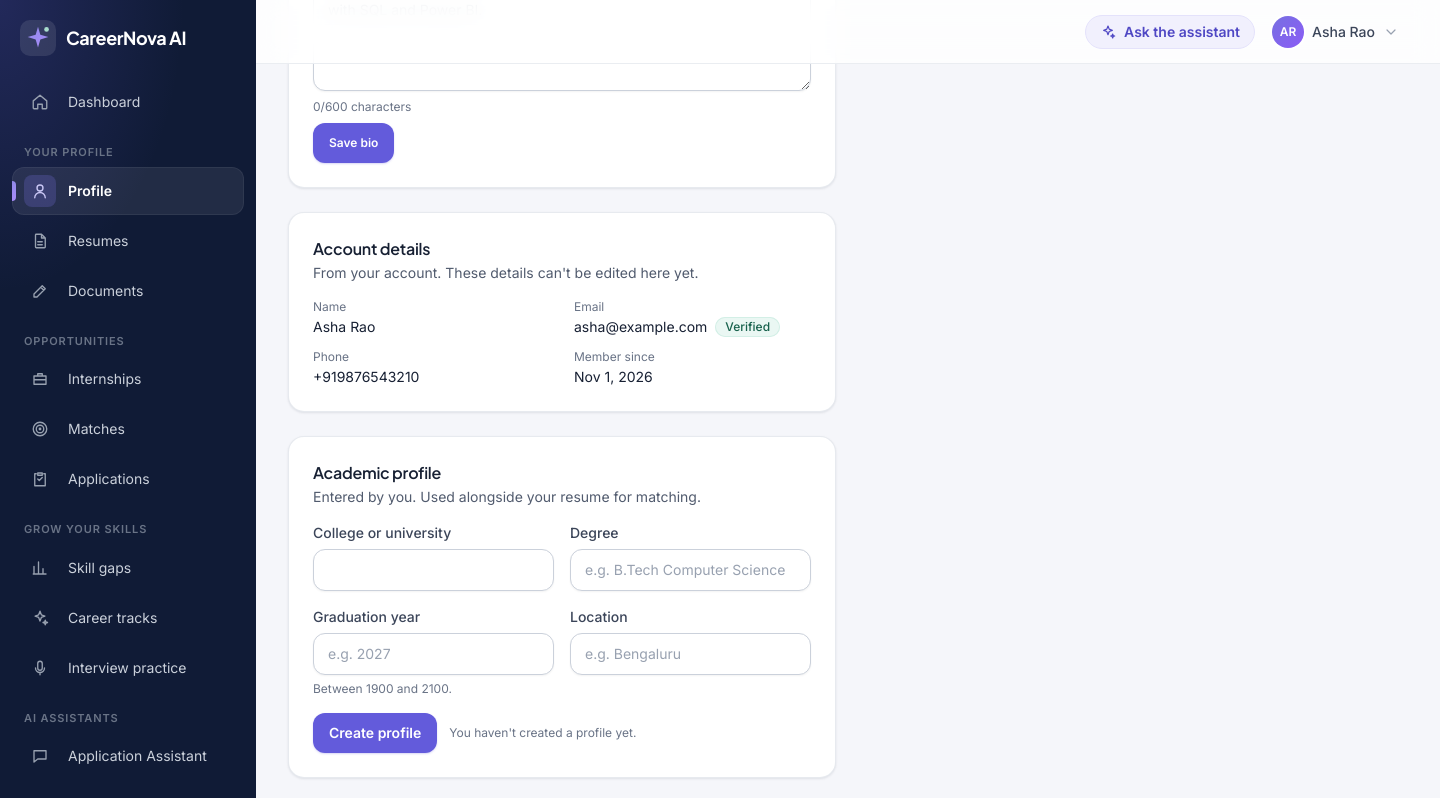
it: Profile: new student › creates a profile with cleaned values
(page scrolled)
expect the text "You haven't created a profile yet." is shown: met, box left=449, top=725, right=636, bottom=741
Type "  Example Institute of Technology " into the field labelled "College or university" at (434, 570), box left=313, top=549, right=554, bottom=591
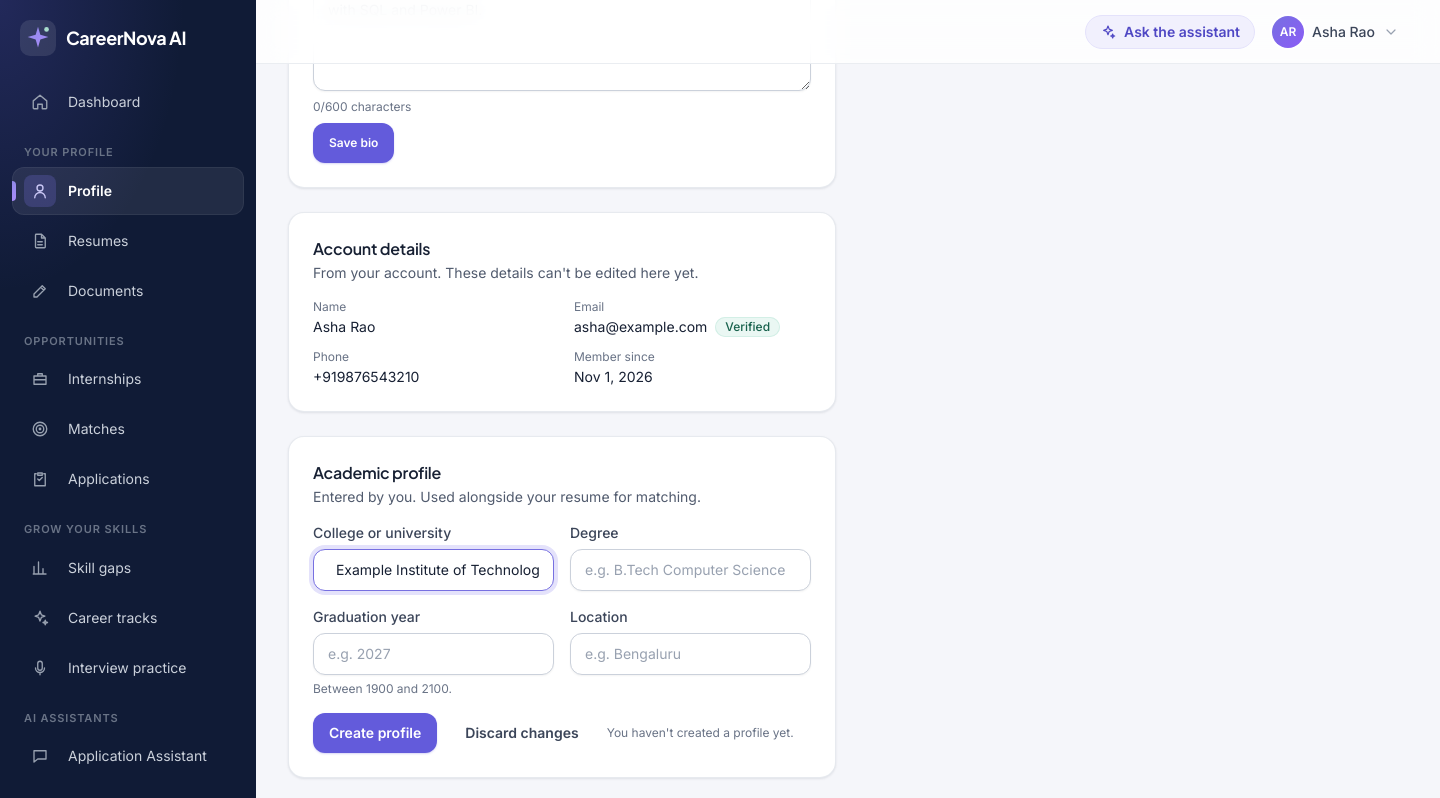
Type "2027" into the field labelled "Graduation year" at (434, 654), box left=313, top=633, right=554, bottom=675
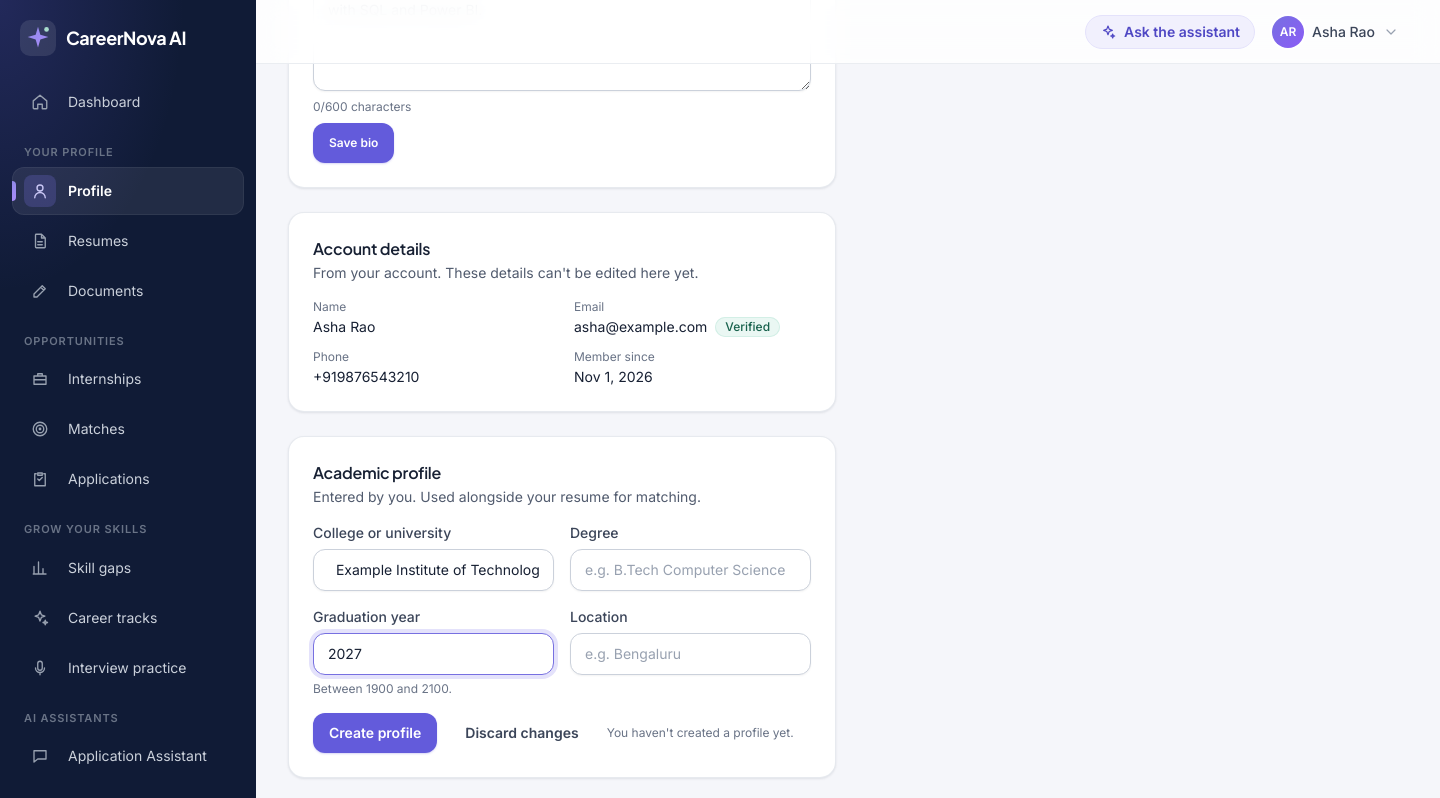
Click the button "Create profile" at (375, 733), box left=313, top=713, right=437, bottom=753
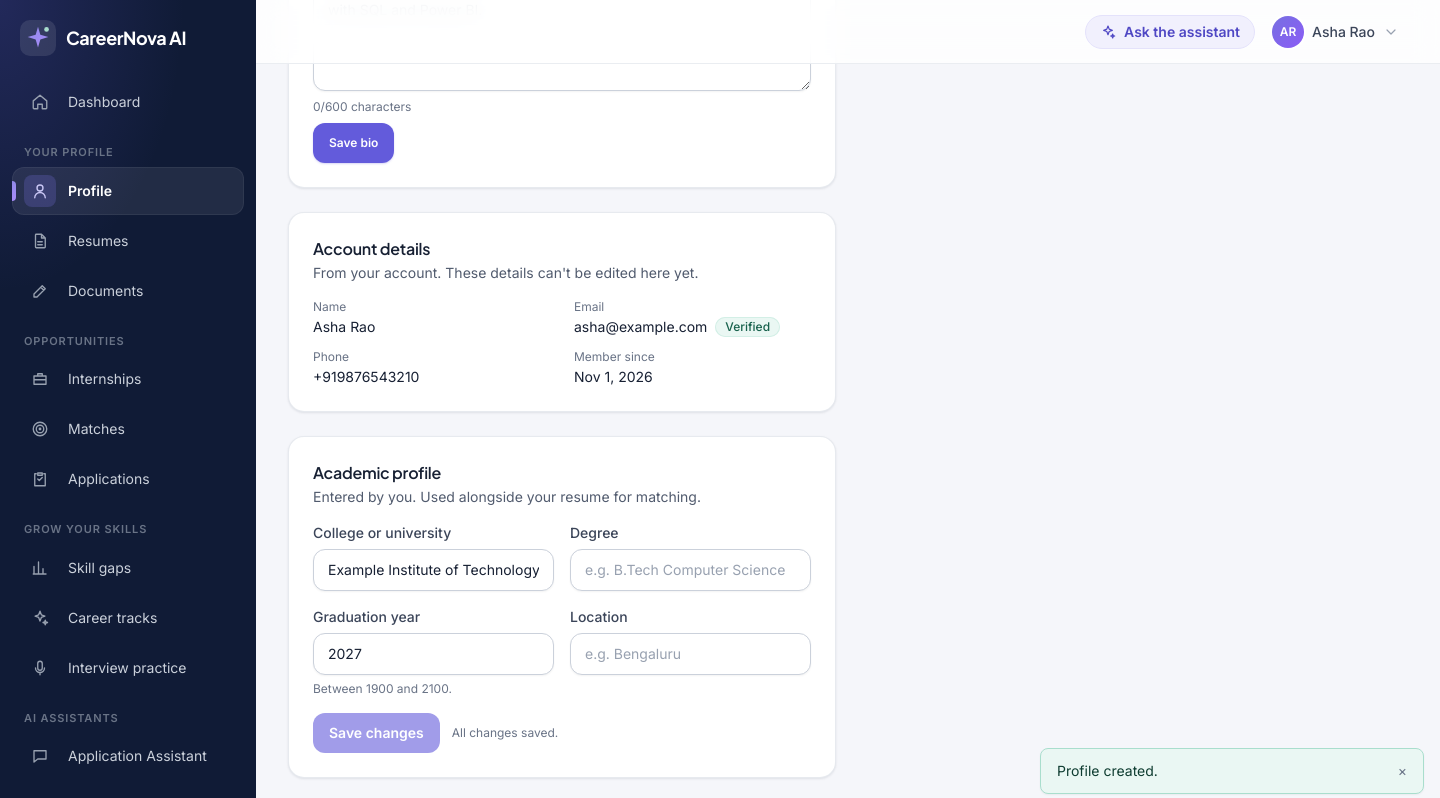
expect the text "Profile created." is shown: met, box left=1057, top=762, right=1158, bottom=779
expect the text "All changes saved." is shown: met, box left=452, top=725, right=558, bottom=741
expect the button "Save changes" is disabled: met, box left=313, top=713, right=440, bottom=753
